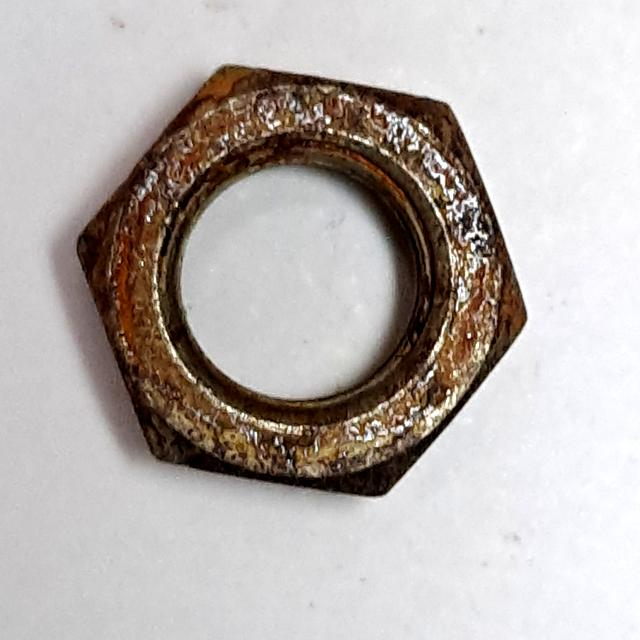Rust: (70, 55, 544, 511)
